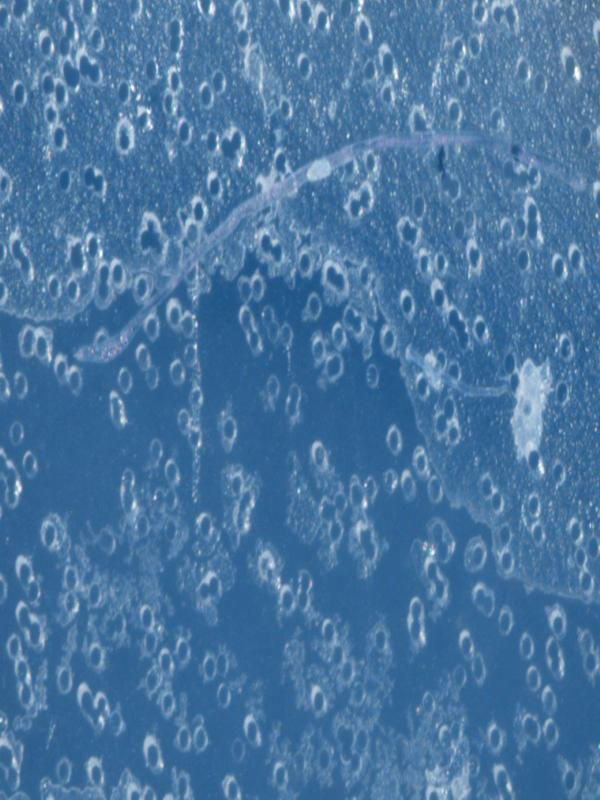microplastic: (1, 1, 599, 796)
